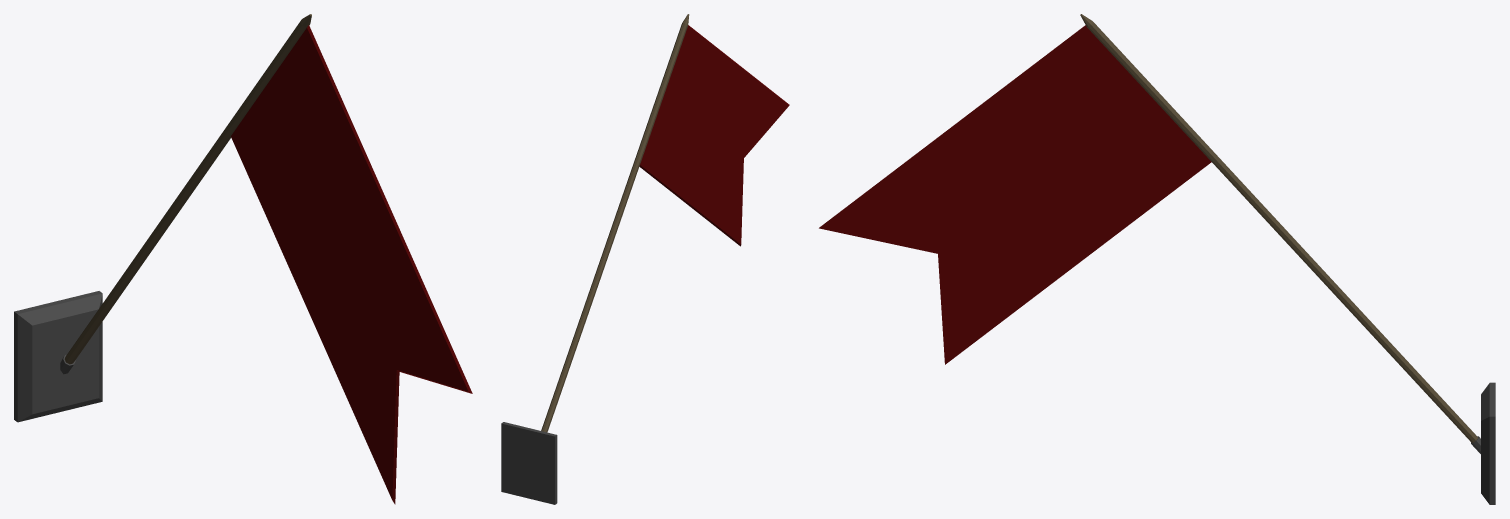
The model's file is K_Flag.fbx.
The picture shows the model from 3 angles, left to right: view 1: azimuth 30°, elevation 25°; view 2: azimuth 150°, elevation 25°; view 3: azimuth 270°, elevation 25°; orthographic projection. The views are drawn at different scales.
Parts seen in each view (by area): view 1: Flag; view 2: Flag; view 3: Flag.
Boxes of the visible parts, x1,y1,x2,y2 form: Flag: (14, 14, 472, 504); Flag: (501, 14, 789, 504); Flag: (819, 14, 1495, 504).
Bounding box in the file's own units: 0.4647 × 3.03 × 3.92.
